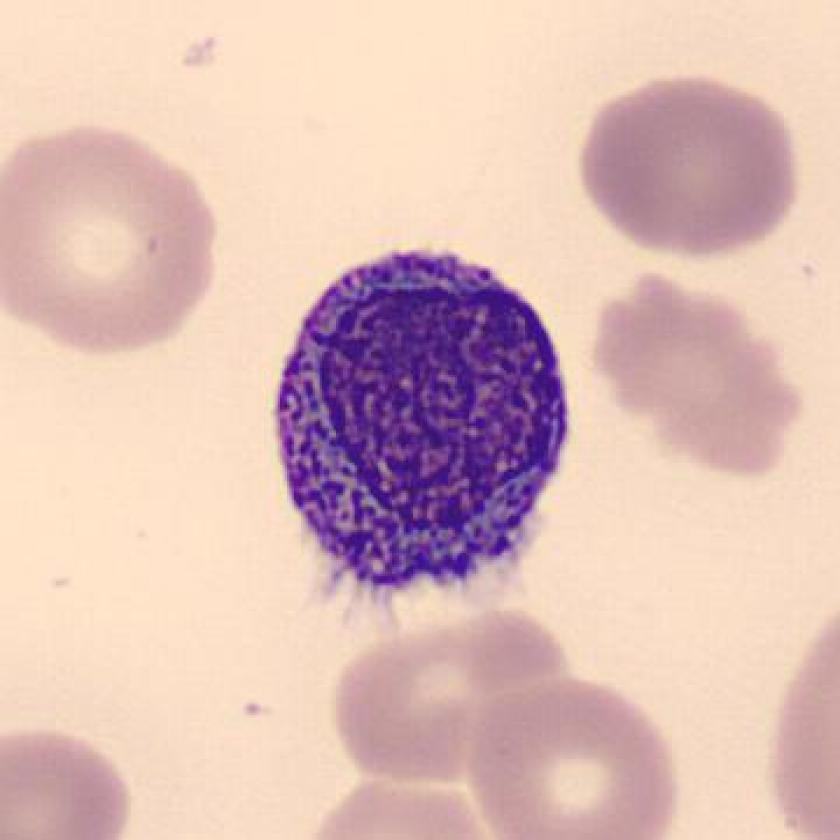monocyte: (253, 226, 598, 610)
